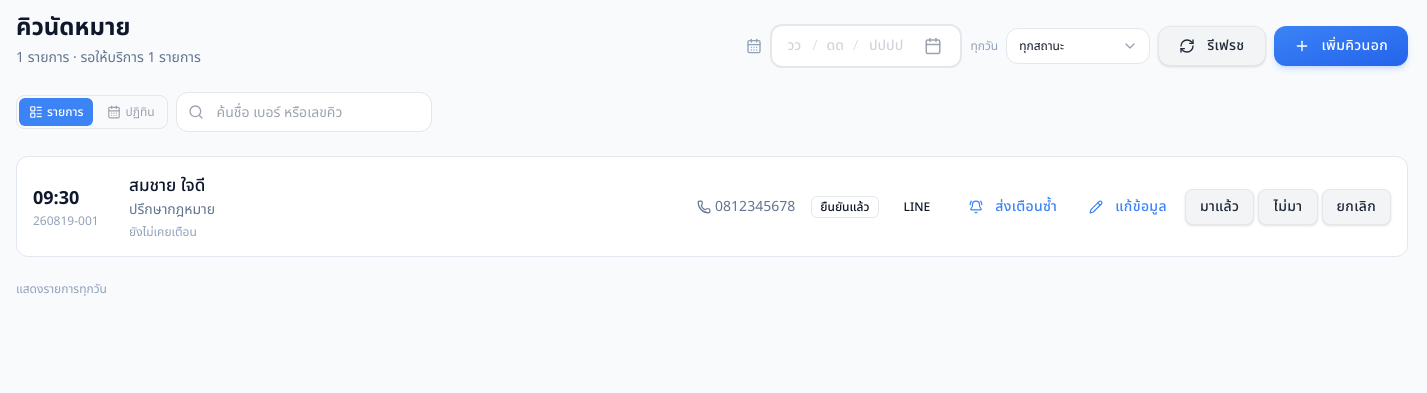
counter actions › surfaces a failed update instead of silently reverting
Click the button "ยกเลิก".
click(1356, 207)  # box x1=1322 y1=189 x2=1391 y2=225
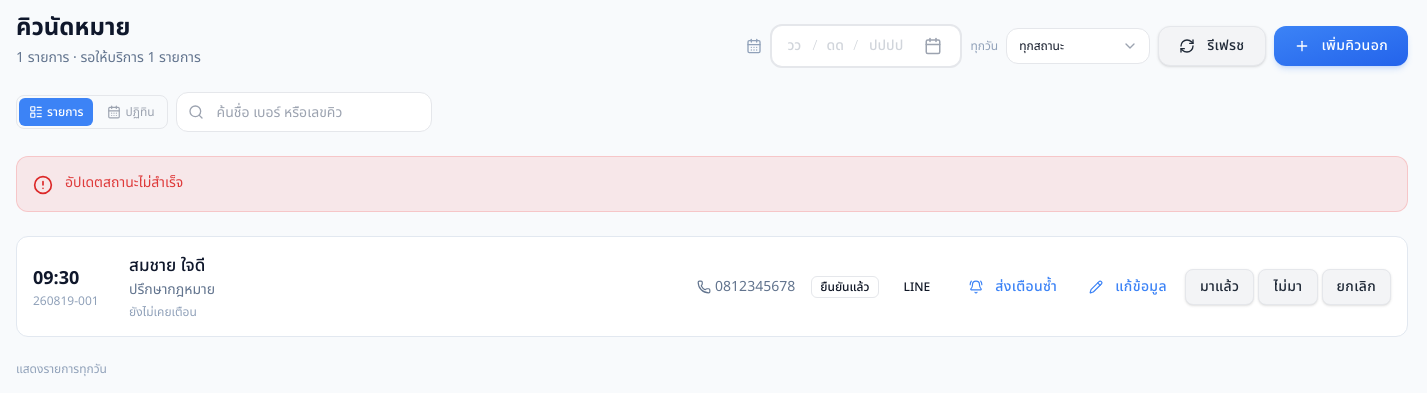
expect the text "อัปเดตสถานะไม่สำเร็จ" is shown: met, box x1=65 y1=172 x2=183 y2=193
